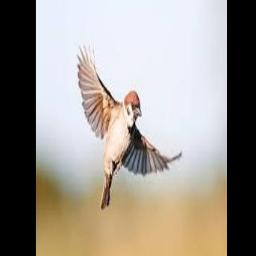Sparrow: (76, 40, 182, 209)
